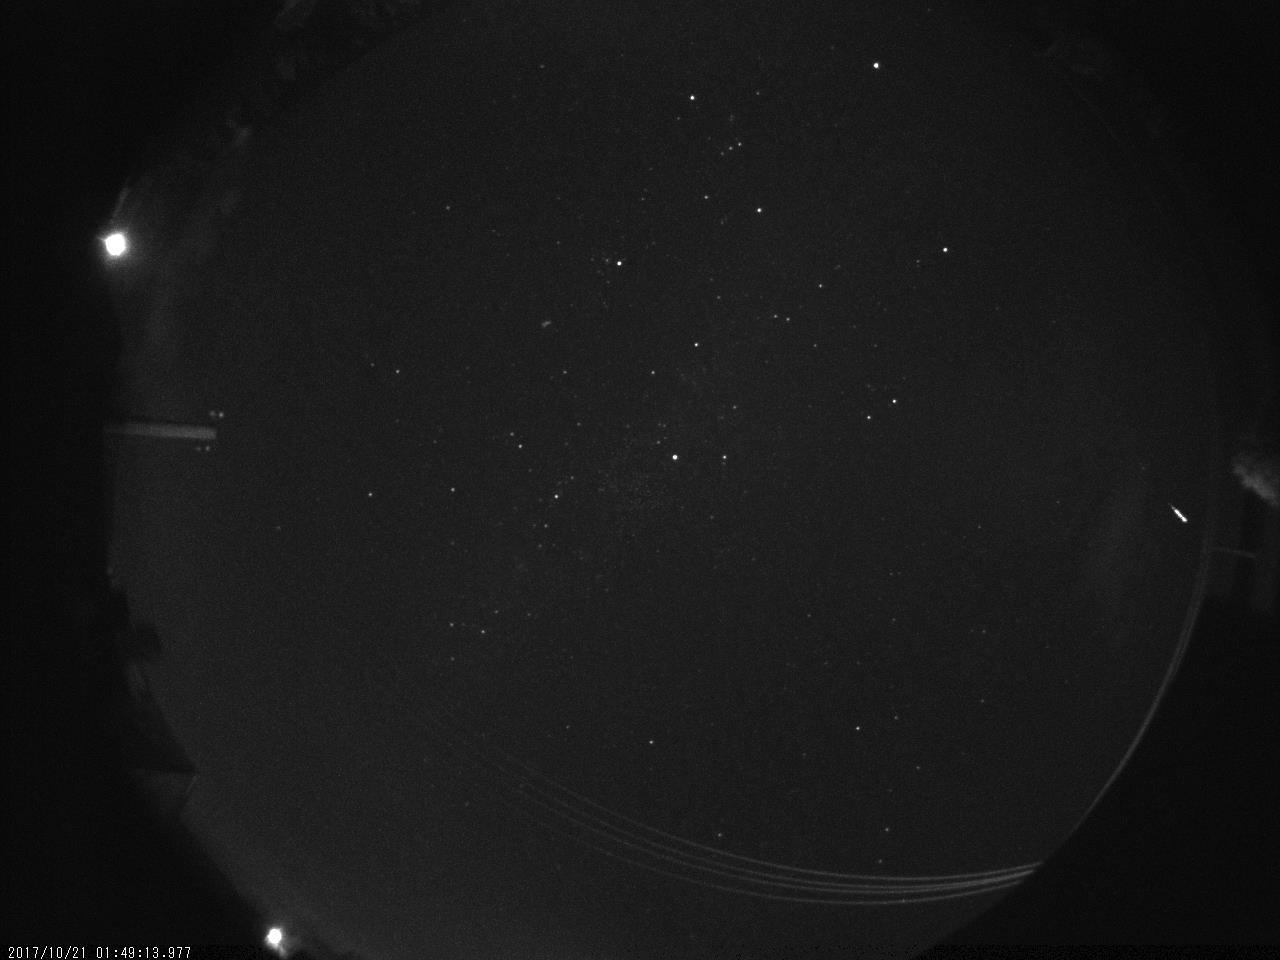Meteor: (1158, 494, 1194, 535)
